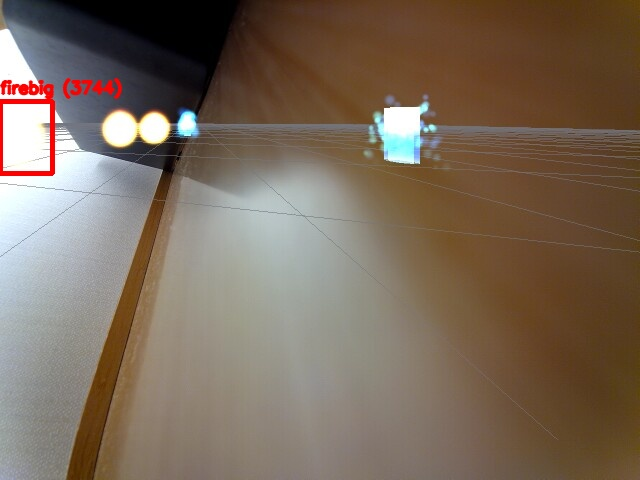firebig: (0, 101, 52, 173)
